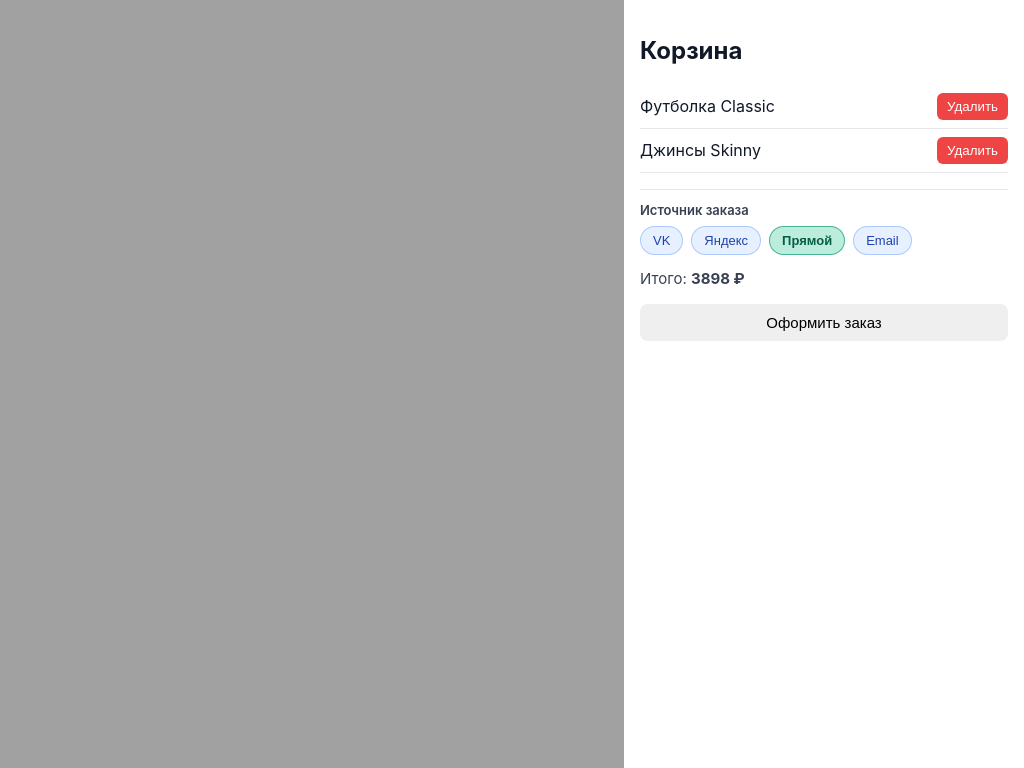
Scenario: удаляет товар из корзины по кнопке
The image size is (1024, 768).
Step 1. Click the button "Удалить" in the row of "Футболка Classic" → (973, 106), box [937, 93, 1008, 120]
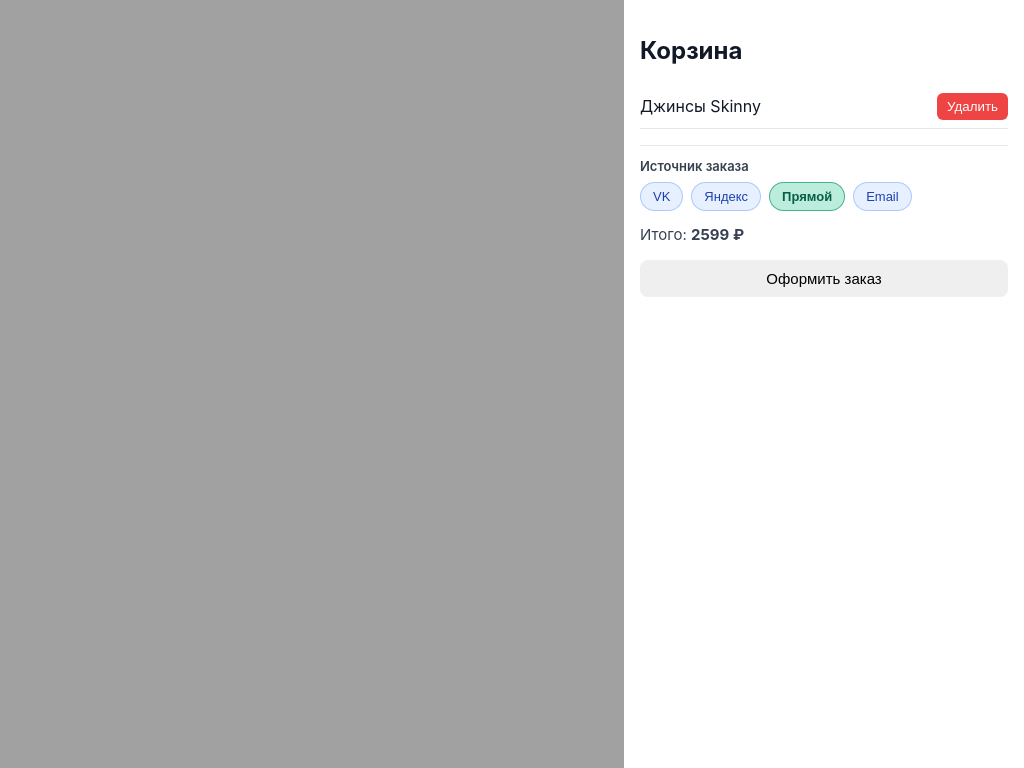
Now the text "Футболка Classic" is gone
